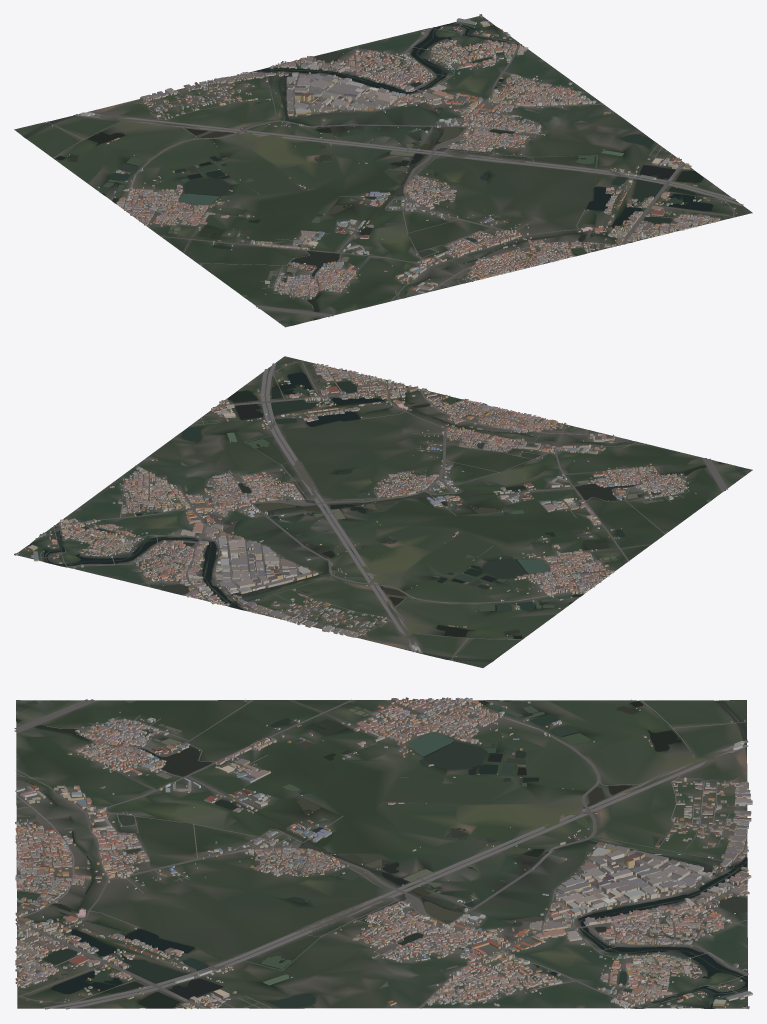
3 renders of one model, top to bottom at view 1: azimuth 30°, elevation 25°; view 2: azimuth 150°, elevation 25°; view 3: azimuth 270°, elevation 25°, orthographic. The views are drawn at different scales.
Parts seen in each view (by area): view 1: ground, buildings, water, roads; view 2: ground, buildings, water, roads; view 3: ground, buildings, water, roads.
Boxes of the visible parts, bbox=[...] form: ground: bbox=[14, 16, 752, 327]; buildings: bbox=[45, 14, 737, 299]; water: bbox=[23, 23, 713, 325]; roads: bbox=[47, 22, 743, 317]; ground: bbox=[17, 356, 752, 667]; buildings: bbox=[14, 361, 696, 660]; water: bbox=[28, 372, 745, 662]; roads: bbox=[40, 361, 727, 660]; ground: bbox=[16, 700, 747, 1008]; buildings: bbox=[15, 697, 752, 1009]; water: bbox=[16, 700, 747, 1008]; roads: bbox=[14, 699, 748, 1009].
Size of the model in its own units: 2819 by 36.86 by 2835.
